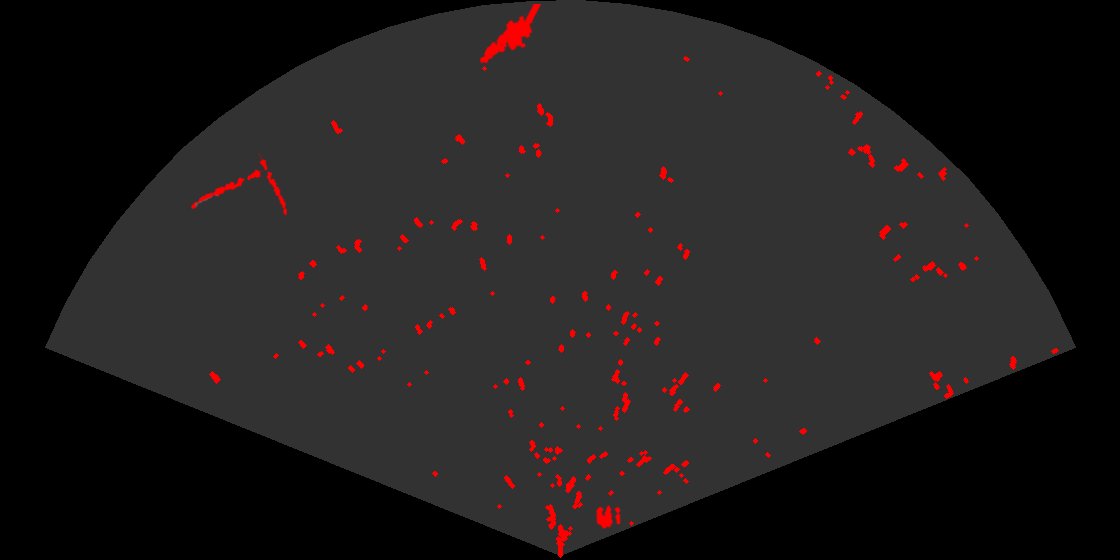ball: (595, 503, 622, 530)
chain: (189, 168, 264, 211), (256, 153, 289, 218)
frogman: (478, 4, 542, 65)
